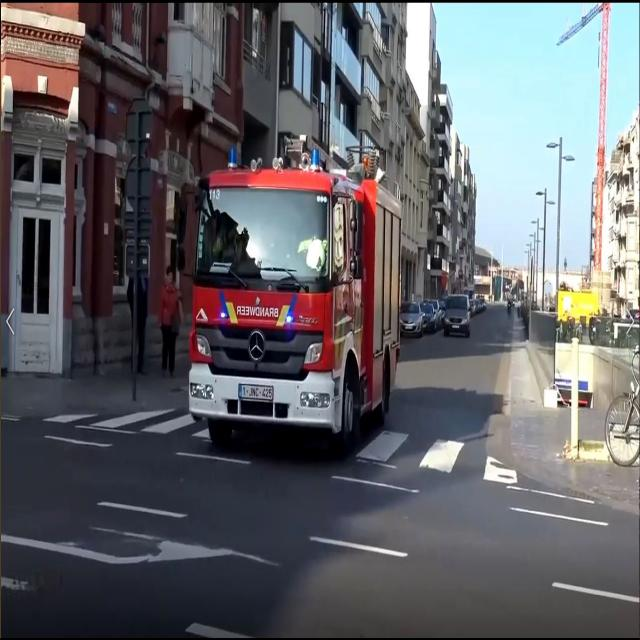emergency: (180, 122, 415, 454)
